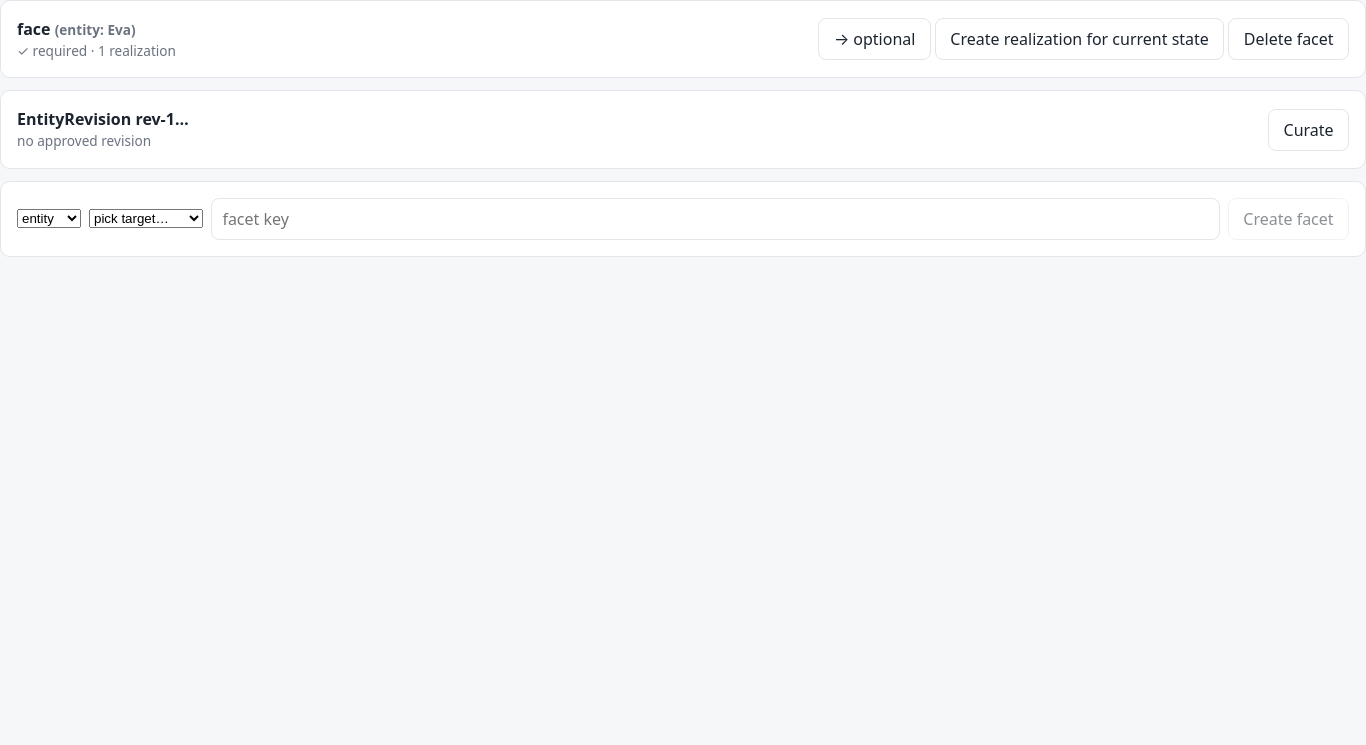
Test case: AnchorCuration working-set editor (M8 §70) › surfaces the soft-delete guard envelope verbatim (409)
The image size is (1366, 745).
Step 1. Click the button "Curate" → (1309, 130), box [1268,109,1349,151]
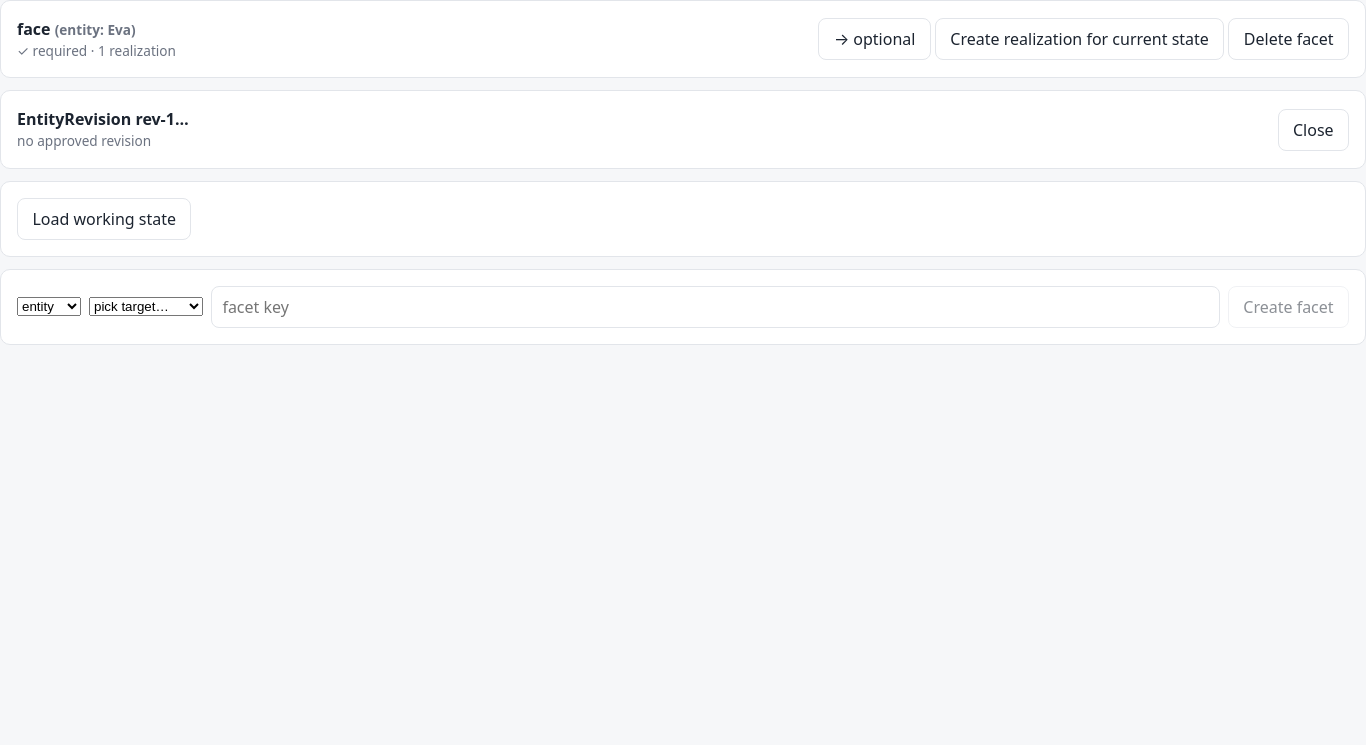
Step 2. Click the button "Load working state" → (104, 219), box [17,198,192,240]
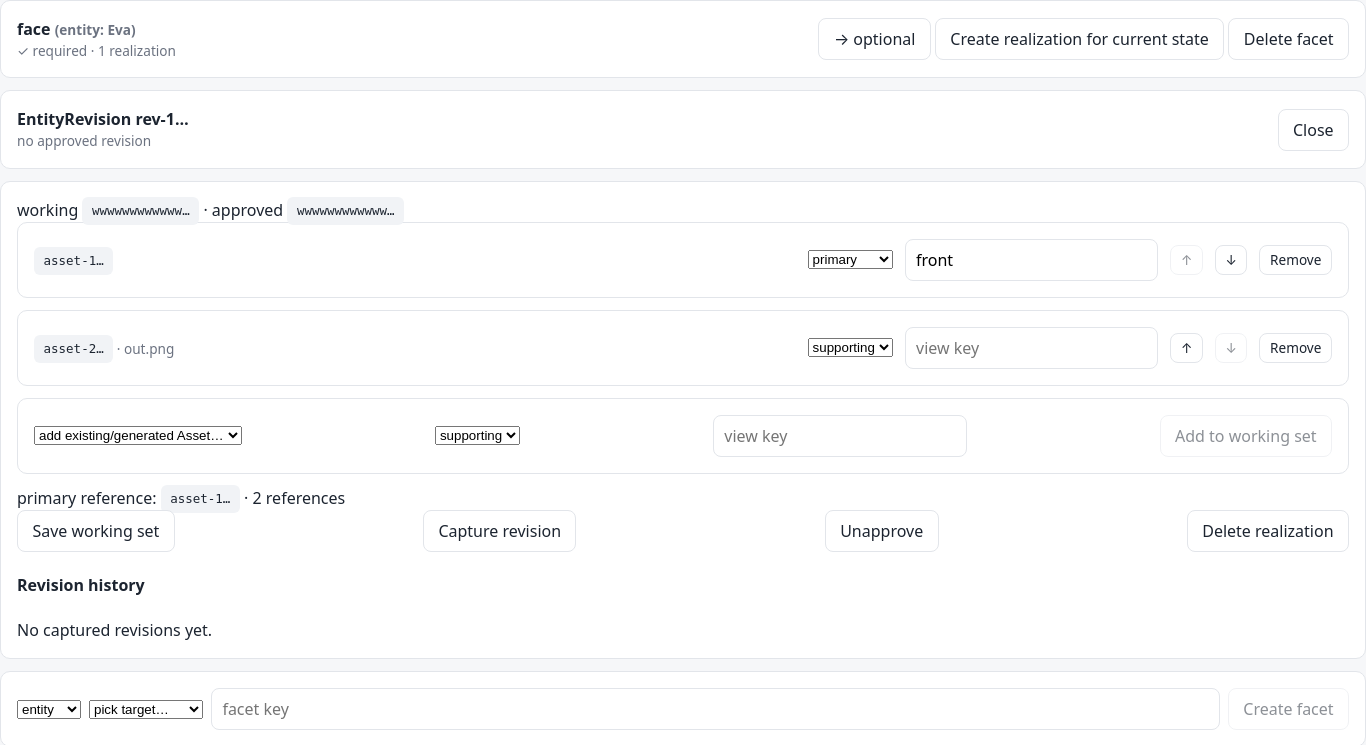
Expected: the text "Delete realization" is shown
Step 3. Click the button "Delete realization" → (1268, 531), box [1187,510,1349,552]
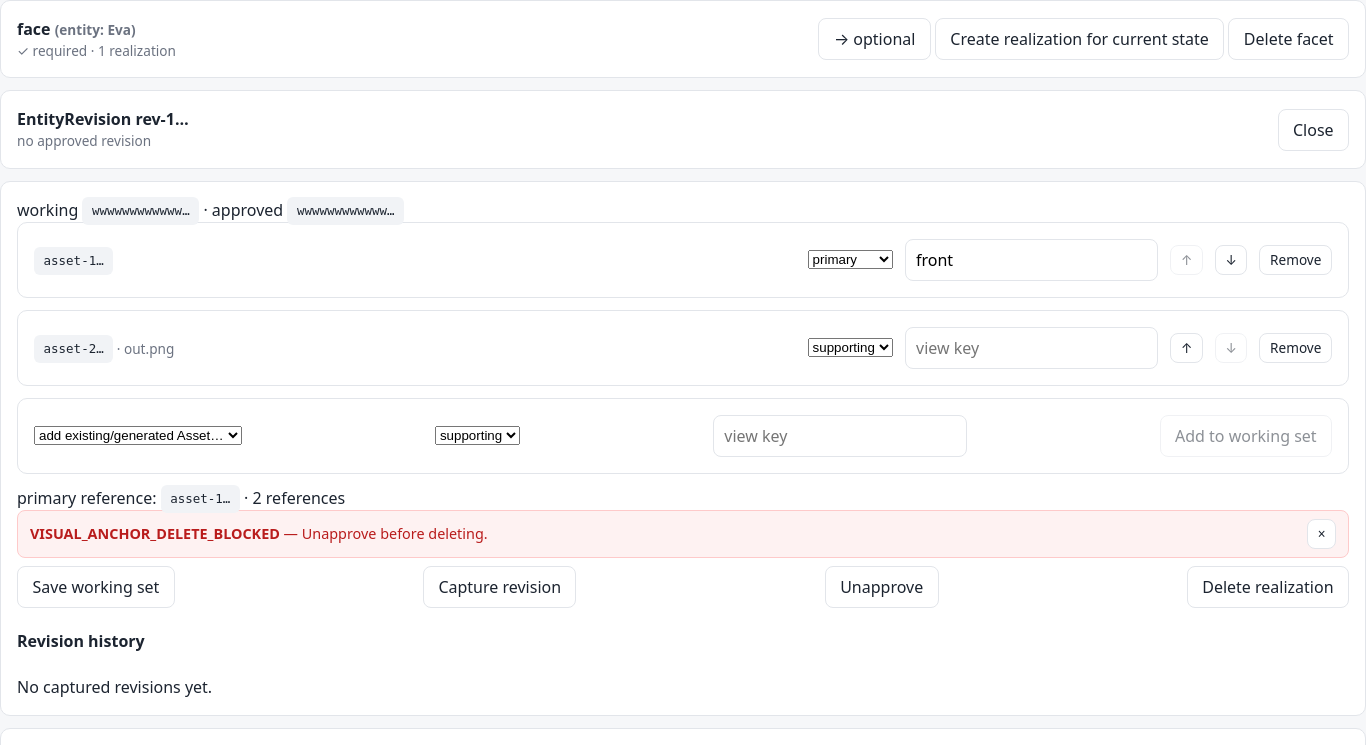
Expected: the text "VISUAL_ANCHOR_DELETE_BLOCKED" is shown, [30,524,280,543]
